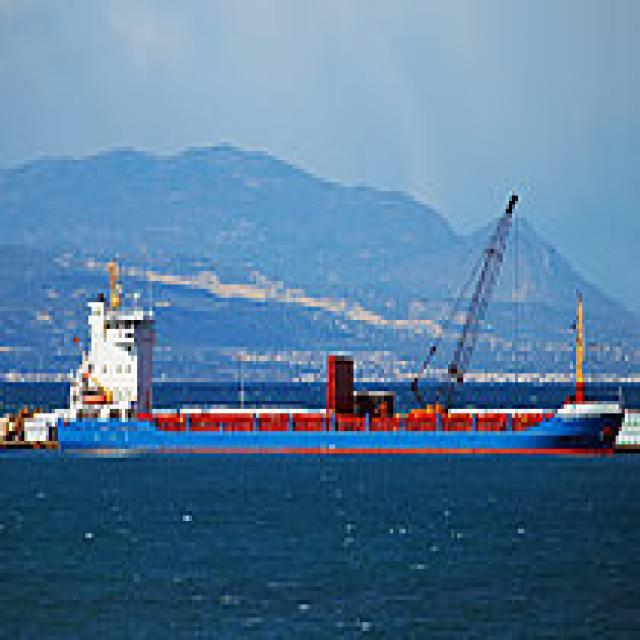Ship: (1, 259, 632, 464)
